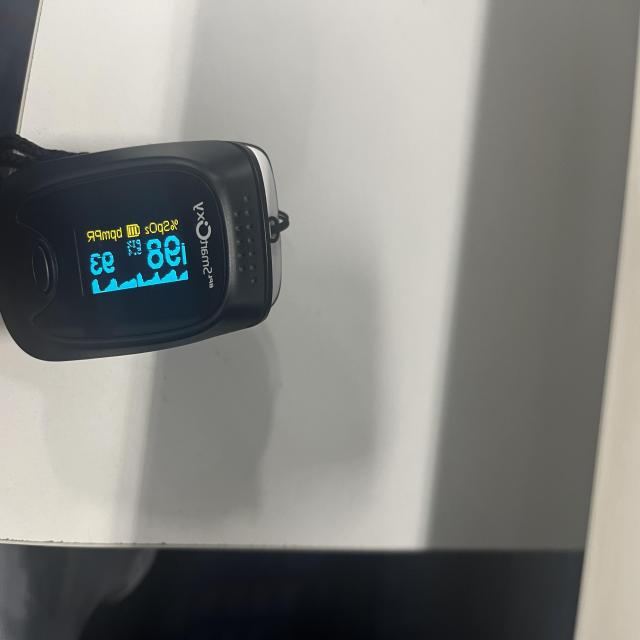spo2: (0, 0, 288, 363)
